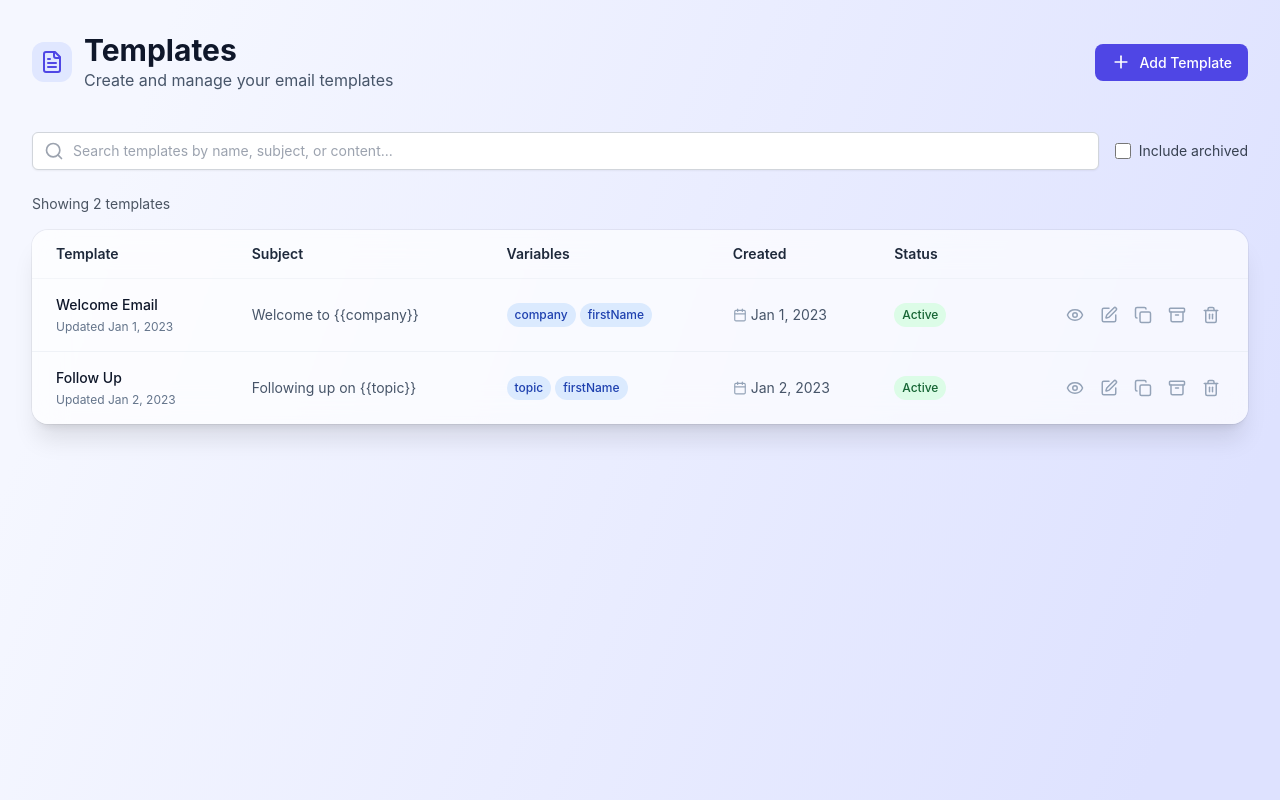
TemplatesPage › Template Count Display › should display search context in count
The width and height of the screenshot is (1280, 800).
Type "welcome" into the field with placeholder "Search templates by name, subject, or content..." at (565, 151), box x1=32 y1=132 x2=1099 y2=170
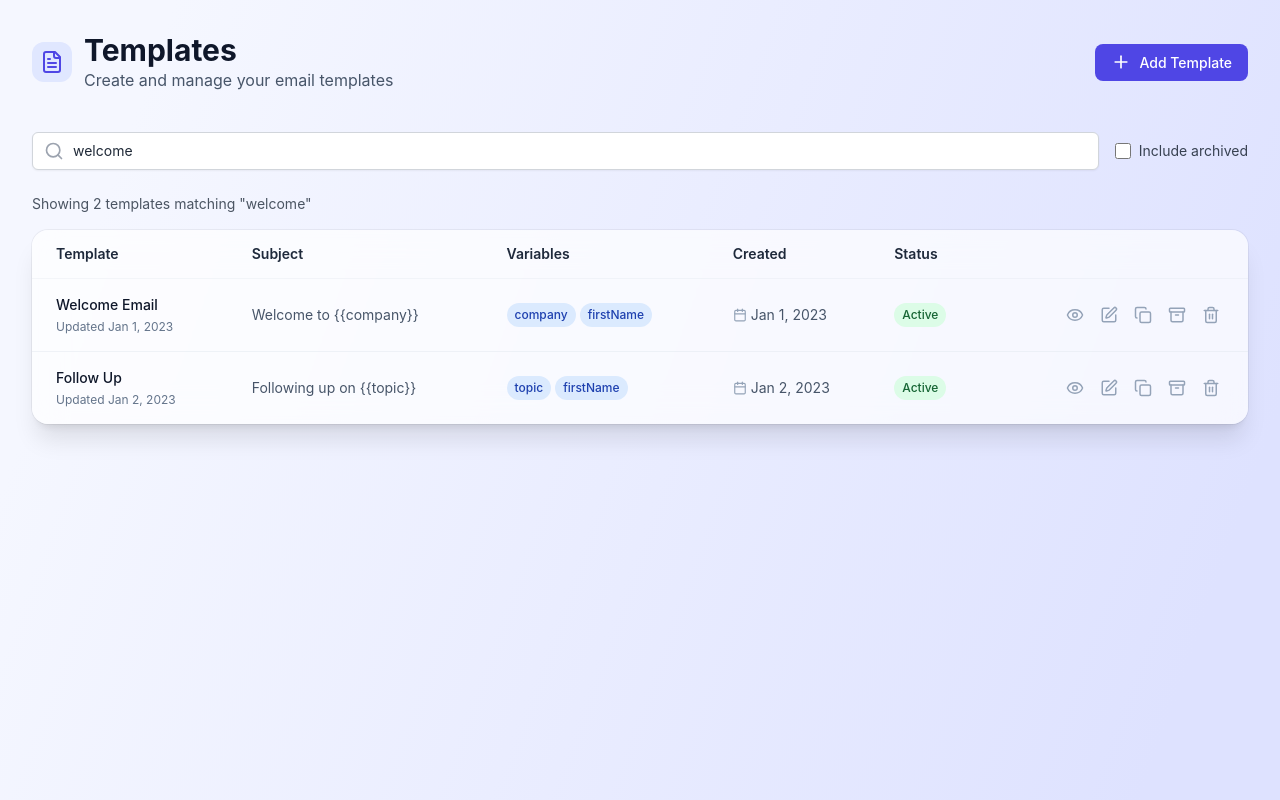
Check: the text "Showing 2 templates matching \"welcome\"" is shown, box x1=32 y1=195 x2=312 y2=212
